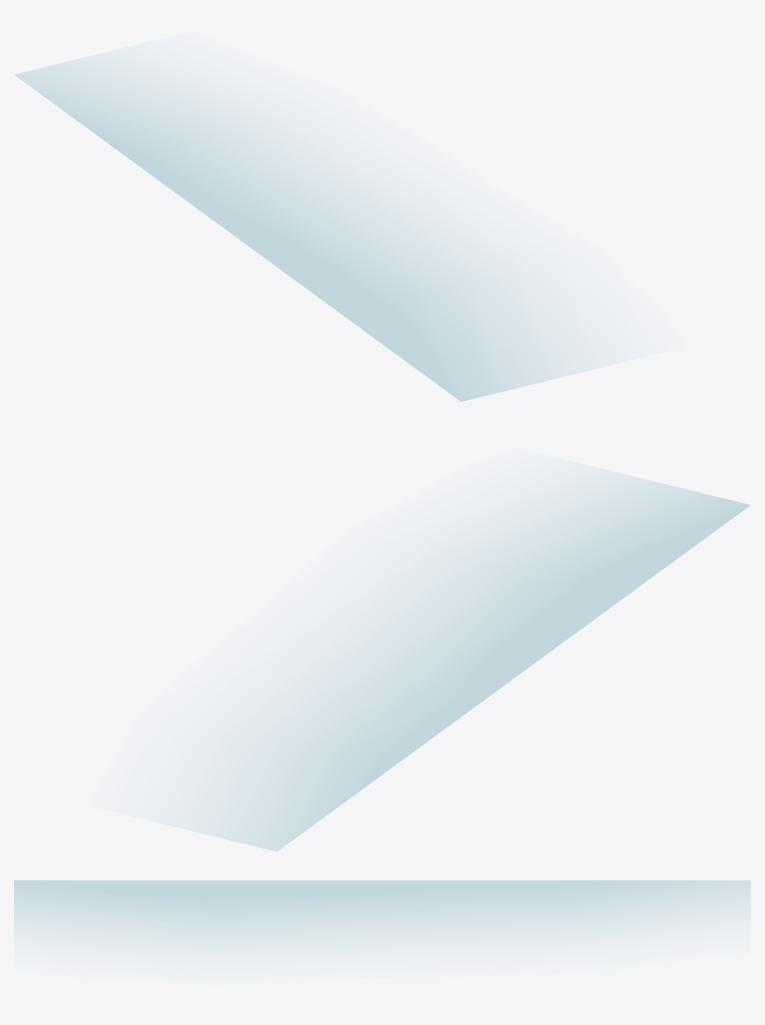
3 views of the same model, one above another, from view 1: azimuth 30°, elevation 25°; view 2: azimuth 150°, elevation 25°; view 3: azimuth 270°, elevation 25° (orthographic). The views are drawn at different scales.
Parts seen in each view (by area): view 1: city; view 2: city; view 3: city.
Boxes of the visible parts, <box> form: city: <box>15,55,588,401</box>; city: <box>190,472,749,851</box>; city: <box>14,880,750,948</box>.
Size of the model in its own units: 210 by 0 by 500.
